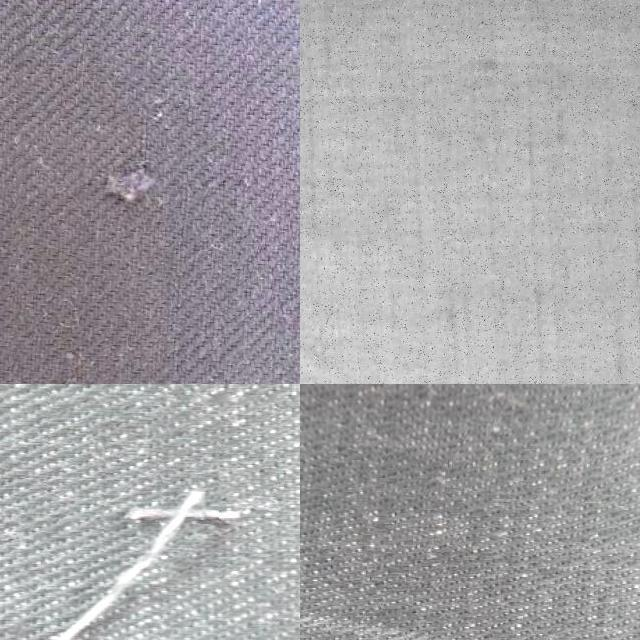Thread_other: (13, 18, 245, 384), (0, 392, 300, 640)
